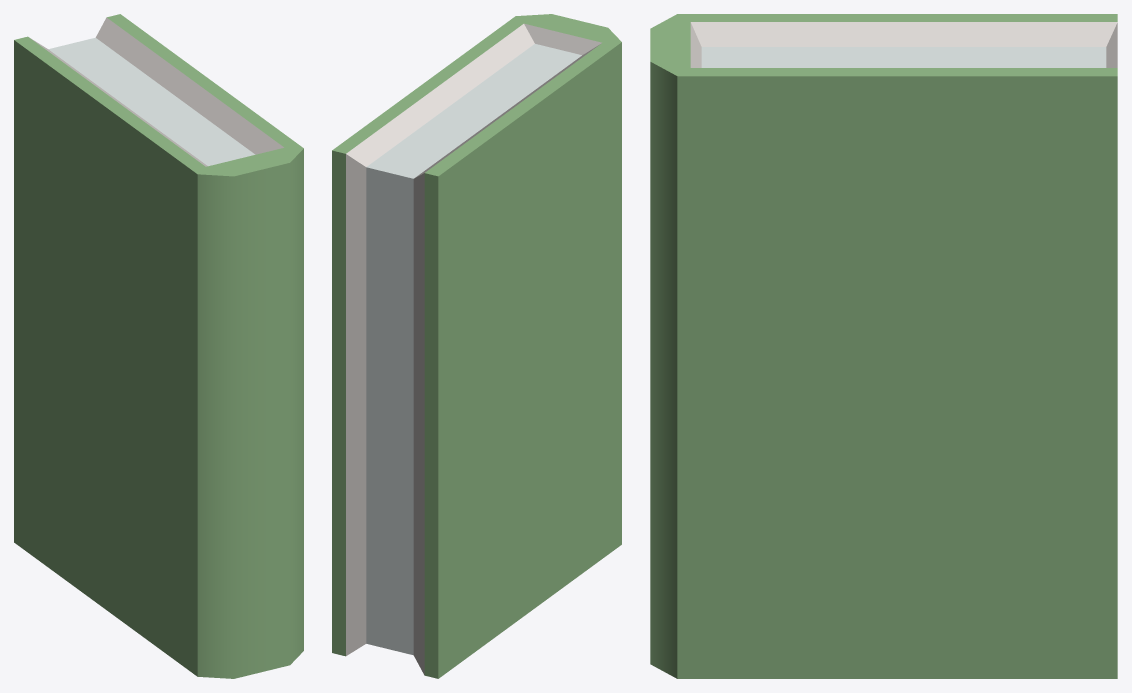
The model's file is book2.fbx.
3 renders of one model, left to right at view 1: azimuth 30°, elevation 25°; view 2: azimuth 150°, elevation 25°; view 3: azimuth 270°, elevation 25°, orthographic. The views are drawn at different scales.
Parts seen in each view (by area): view 1: book2; view 2: book2; view 3: book2.
Part boxes in pixels (x1,y1,x2,y2): book2: [14, 14, 303, 678]; book2: [332, 14, 621, 678]; book2: [650, 14, 1117, 678].
Bounding box in the file's own units: 0.3662 × 1.65 × 1.16.
1 material, 1 textured.
